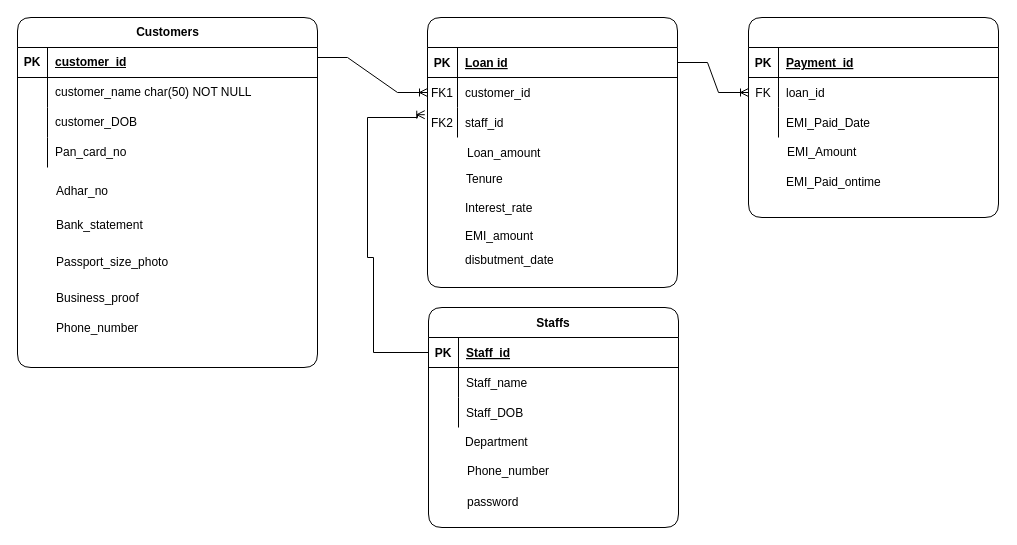
The diagram is 1017 pixels wide and 545 high, and some of its shapes have lost their labels. Here are the shapes that lost their labels. From the top down, the box of each, then its label:
(748, 16, 998, 218): Installments
(426, 16, 678, 288): Loan_Disbustment
